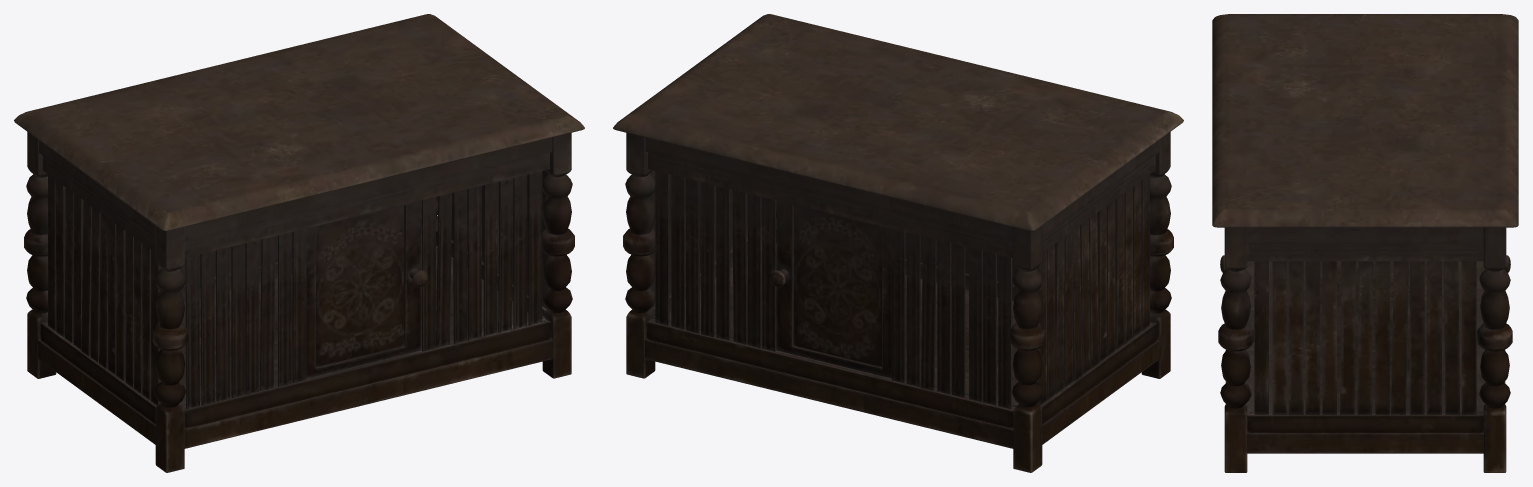
File: polyhaven-gallinera-table.glb
The picture shows the model from 3 angles, left to right: view 1: azimuth 30°, elevation 25°; view 2: azimuth 150°, elevation 25°; view 3: azimuth 270°, elevation 25°; orthographic projection.
Visible parts, largest first — view 1: gallinera_table, gallinera_table_door_a; view 2: gallinera_table, gallinera_table_door_b; view 3: gallinera_table.
Boxes of the visible parts, x1,y1,x2,y2 form: gallinera_table: [14, 14, 584, 472]; gallinera_table_door_a: [306, 200, 428, 378]; gallinera_table: [613, 14, 1183, 472]; gallinera_table_door_b: [769, 200, 891, 378]; gallinera_table: [1212, 14, 1518, 472].
Bounding box in the file's own units: 0.8301 × 0.4878 × 0.5183.
Materials: 1 (1 with a texture image).
